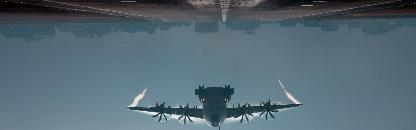A400M: (127, 85, 305, 129)
